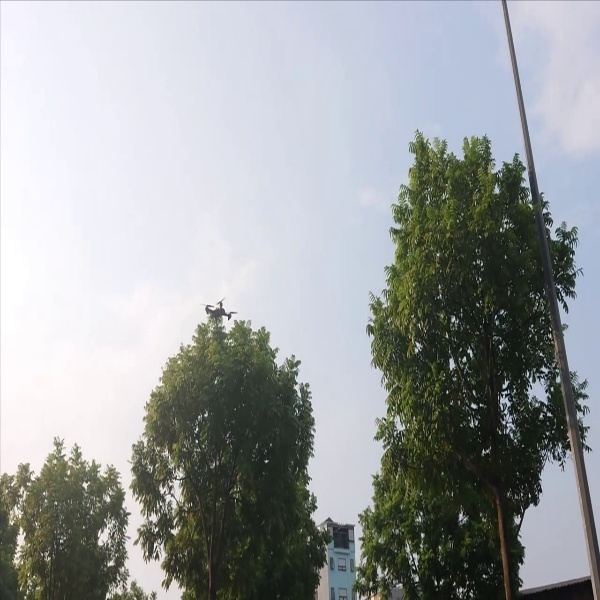drone: (199, 294, 236, 327)
